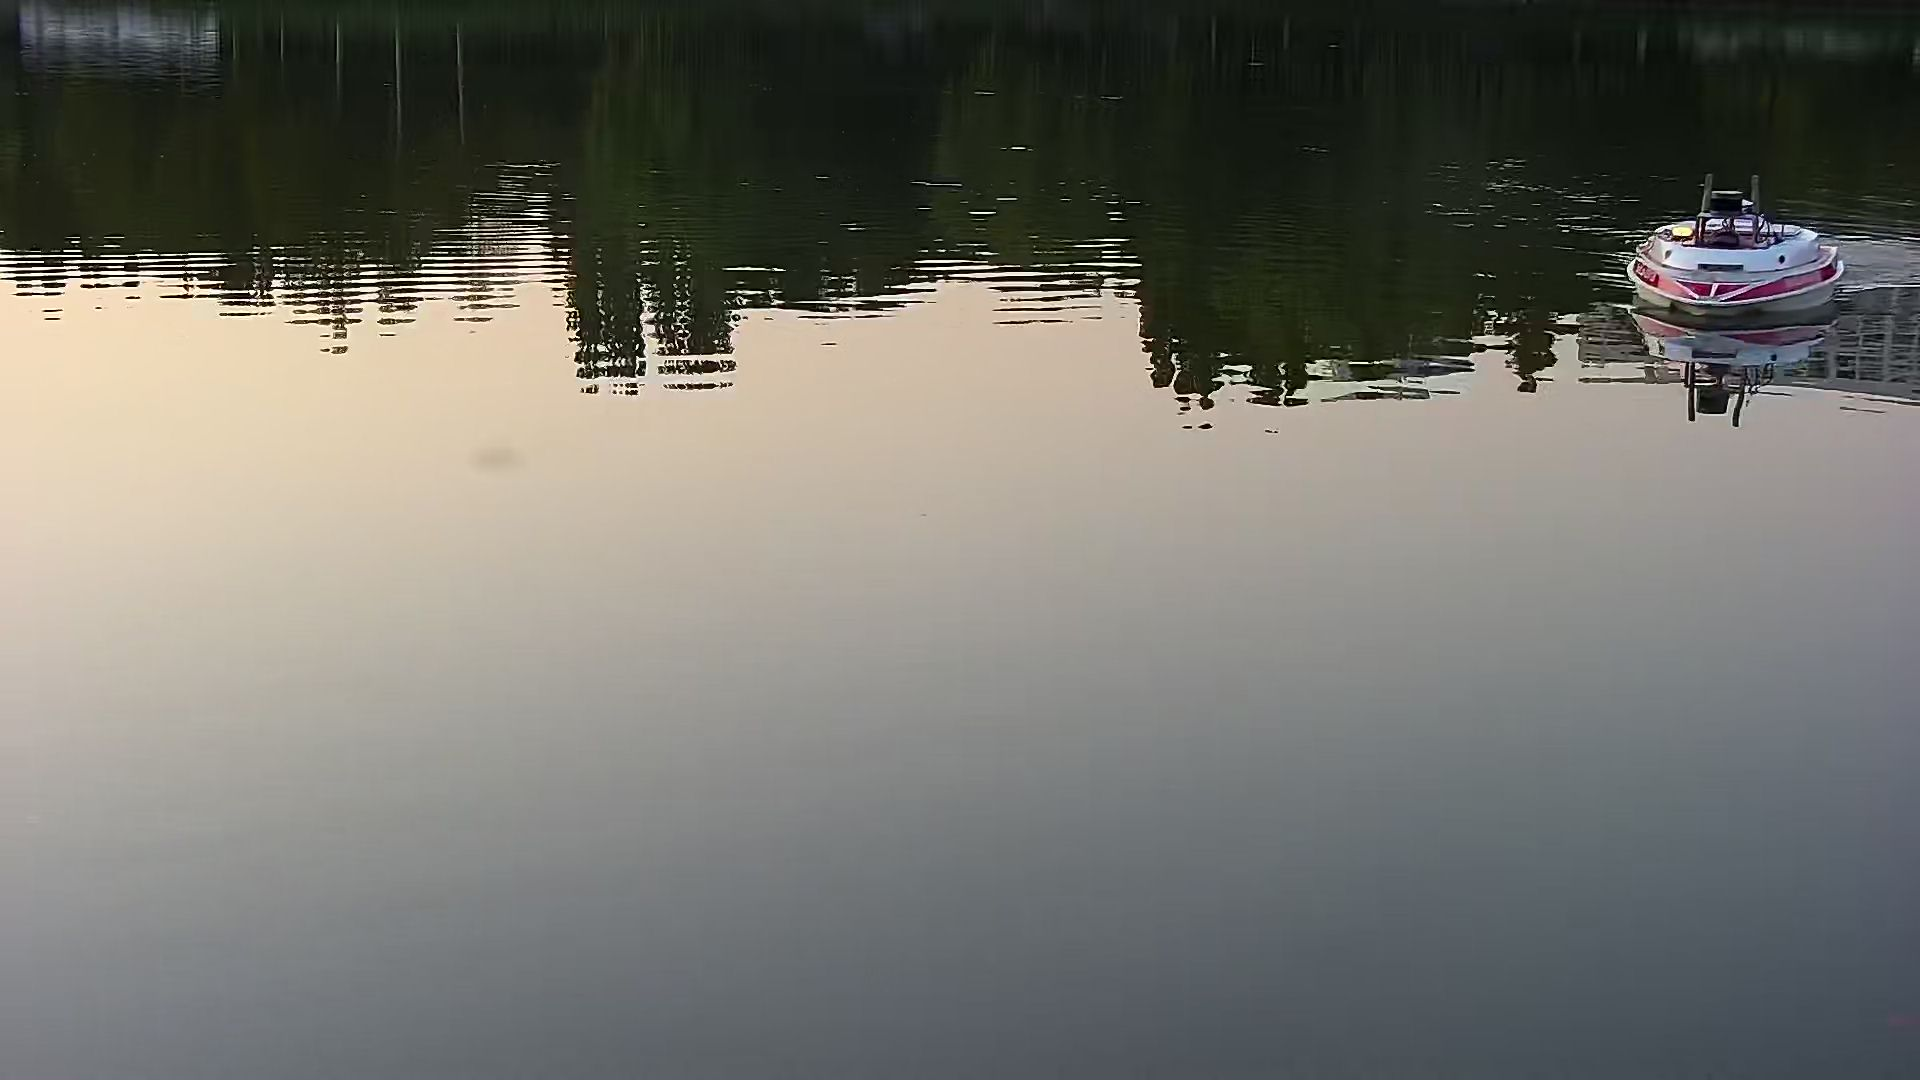boat: (1618, 174, 1846, 328)
